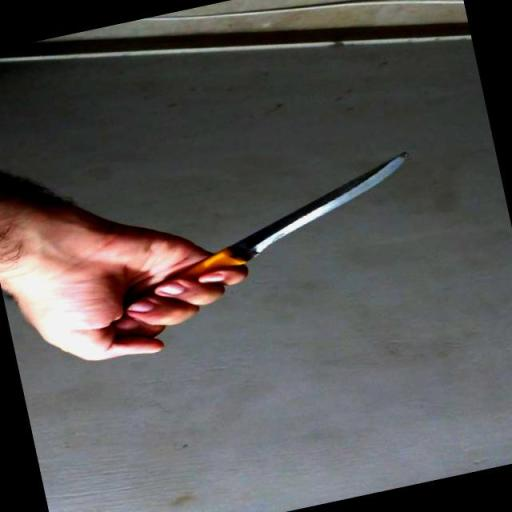knife: (40, 148, 446, 378)
